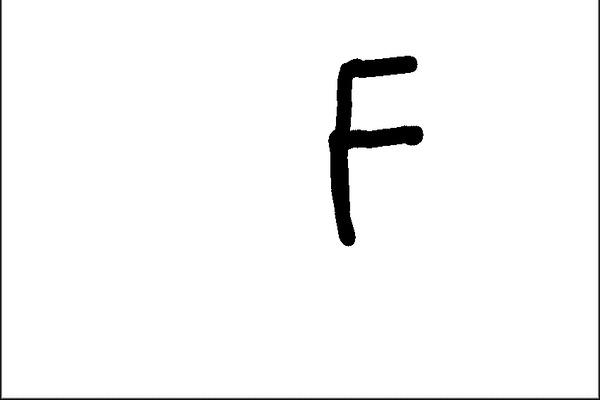F: (320, 50, 429, 250)
